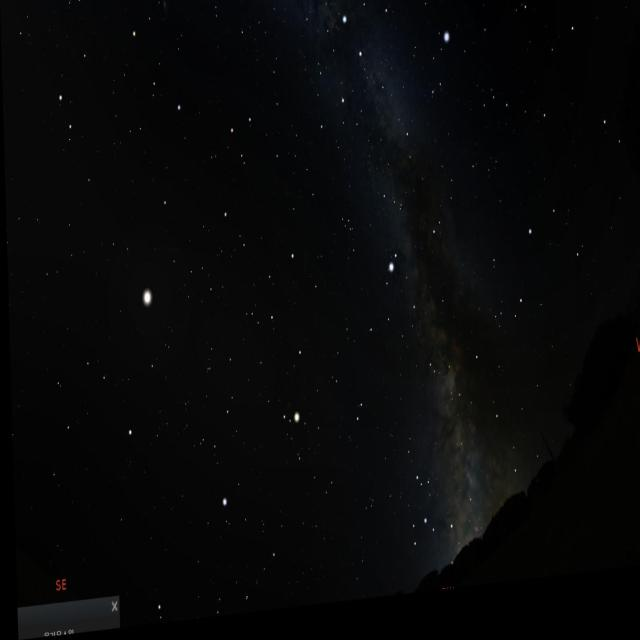aquila: (356, 254, 446, 403)
cygnus: (334, 0, 410, 159)
lyra: (415, 35, 456, 124)
